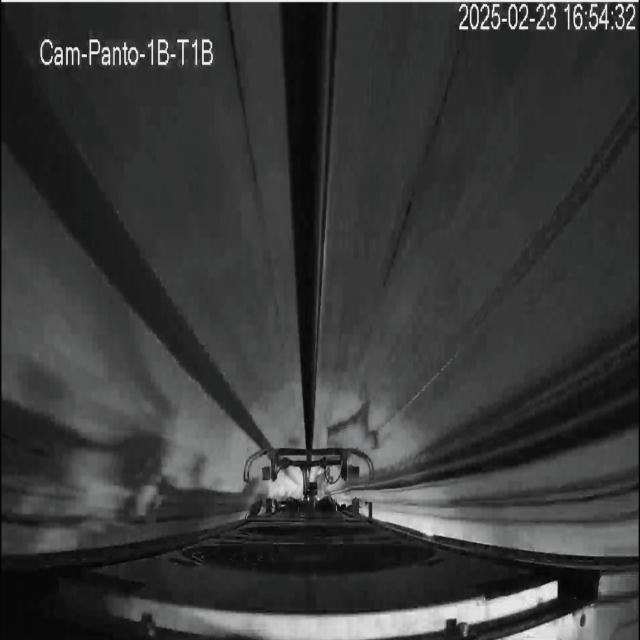Camera Stamp: (34, 27, 218, 70)
Date Stamp: (457, 3, 637, 33)
No - Spark: (227, 365, 404, 498)
